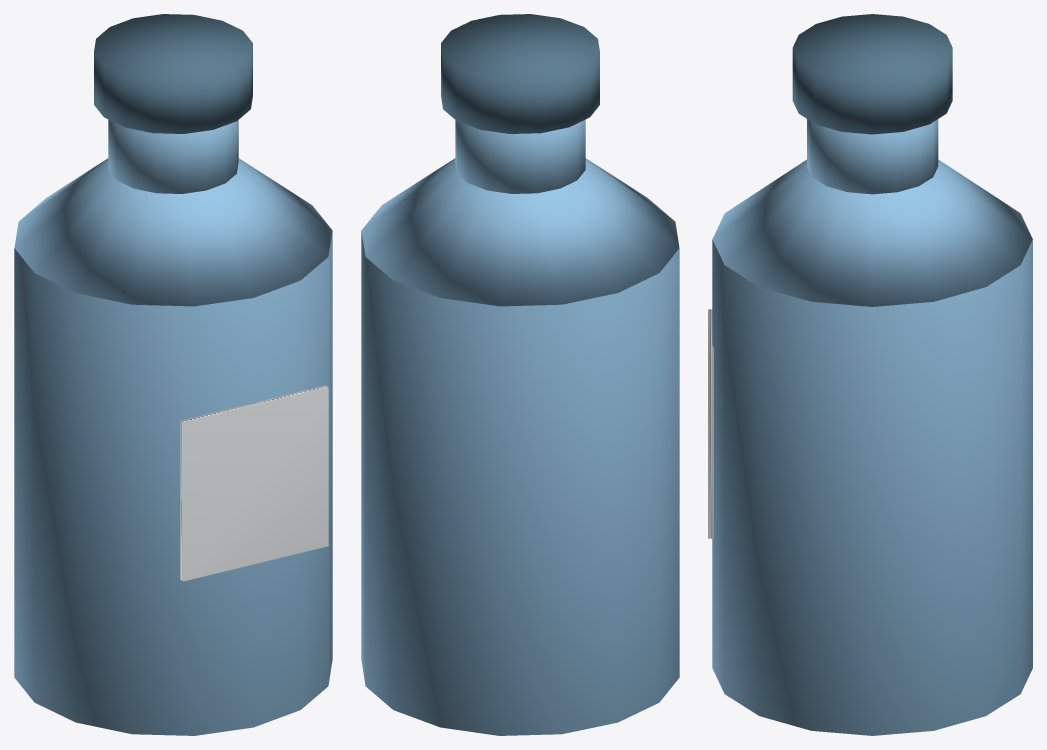
The model's file is base-bottle.glb.
The picture shows the model from 3 angles, left to right: view 1: azimuth 30°, elevation 25°; view 2: azimuth 150°, elevation 25°; view 3: azimuth 270°, elevation 25°; orthographic projection.
Parts seen in each view (by area): view 1: bottle_body, shoulder, blank_label, cap, neck; view 2: bottle_body, shoulder, cap, neck; view 3: bottle_body, shoulder, cap, neck, blank_label.
Boxes of the visible parts, <box> form: bottle_body: <box>14,231,332,735</box>; shoulder: <box>14,158,332,306</box>; blank_label: <box>180,385,328,581</box>; cap: <box>94,14,252,133</box>; neck: <box>108,119,238,193</box>; bottle_body: <box>361,231,679,735</box>; shoulder: <box>361,158,679,306</box>; cap: <box>441,14,599,133</box>; neck: <box>455,119,585,193</box>; bottle_body: <box>712,239,1032,735</box>; shoulder: <box>712,159,1032,306</box>; cap: <box>792,14,952,134</box>; neck: <box>807,119,938,194</box>; blank_label: <box>708,309,713,538</box>.
Size of the model in its own units: 0.44 by 0.94 by 0.446.
